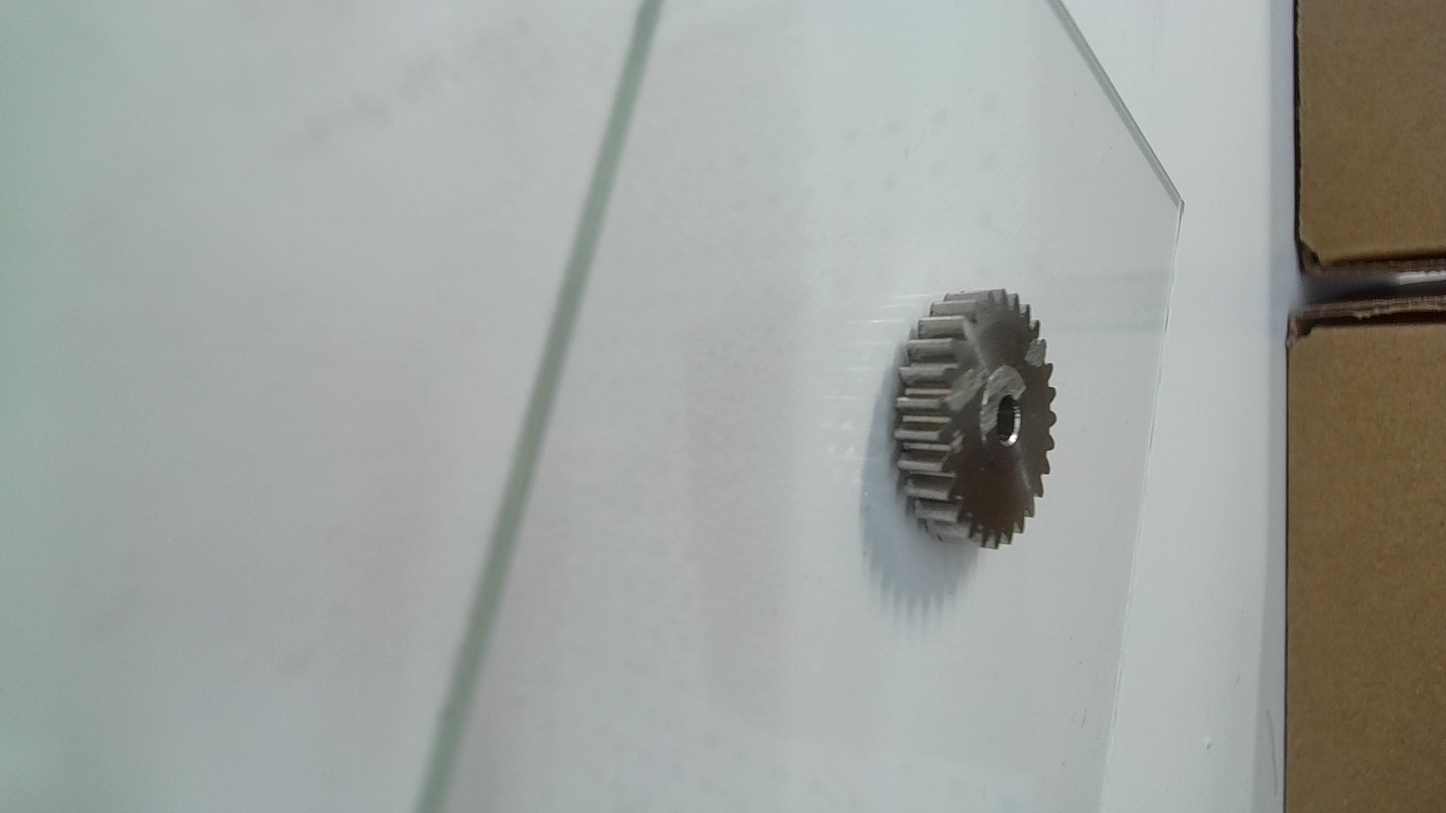gear: (877, 278, 1061, 561)
